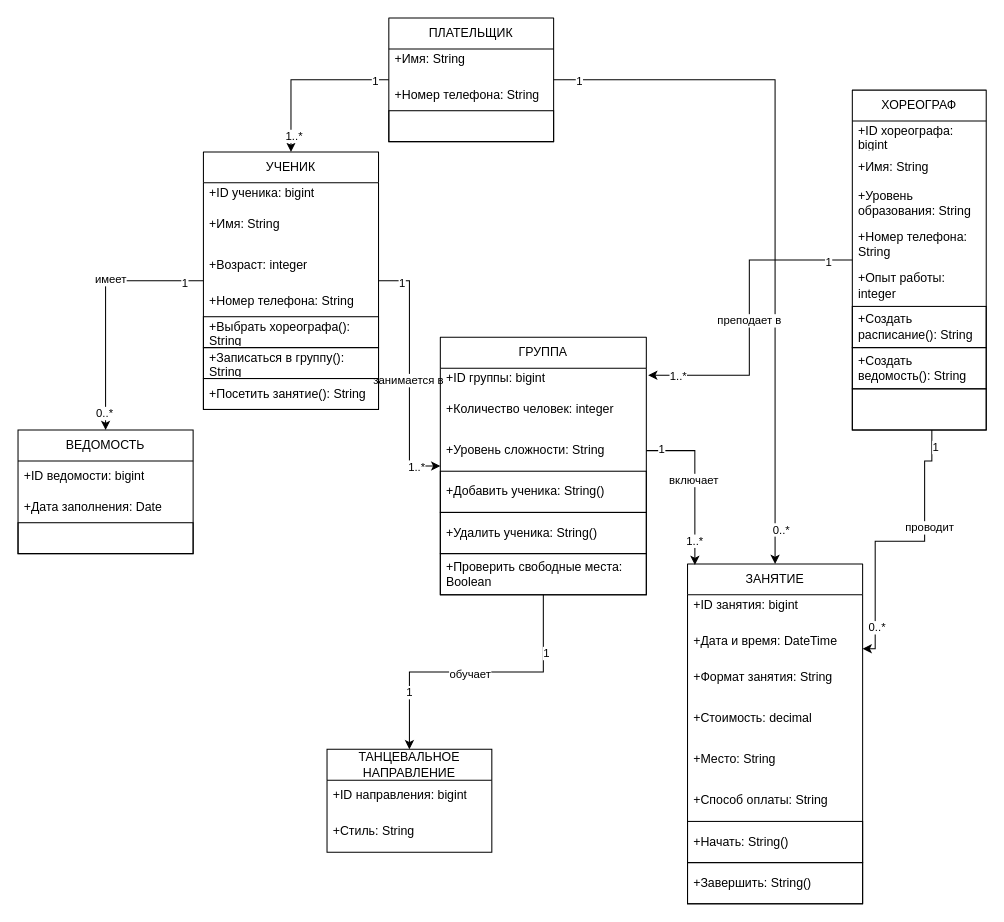
Image size: 1004x922. Some labels were removed from this diagram. The shapes that lost their labels are listed below. From the top down, each one's centre as x and y in pixels, then its label:
At (471,126): "+Оплатить(): String".
At (918,409): "+Провести занятие(): String".
At (105,538): "+Отметить посещение(): String".
